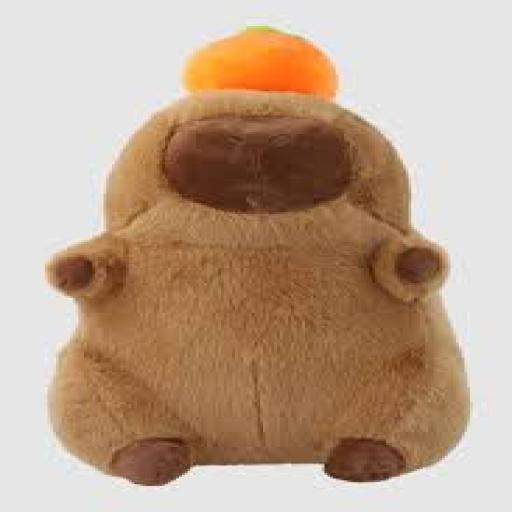capibara: (69, 20, 465, 491)
